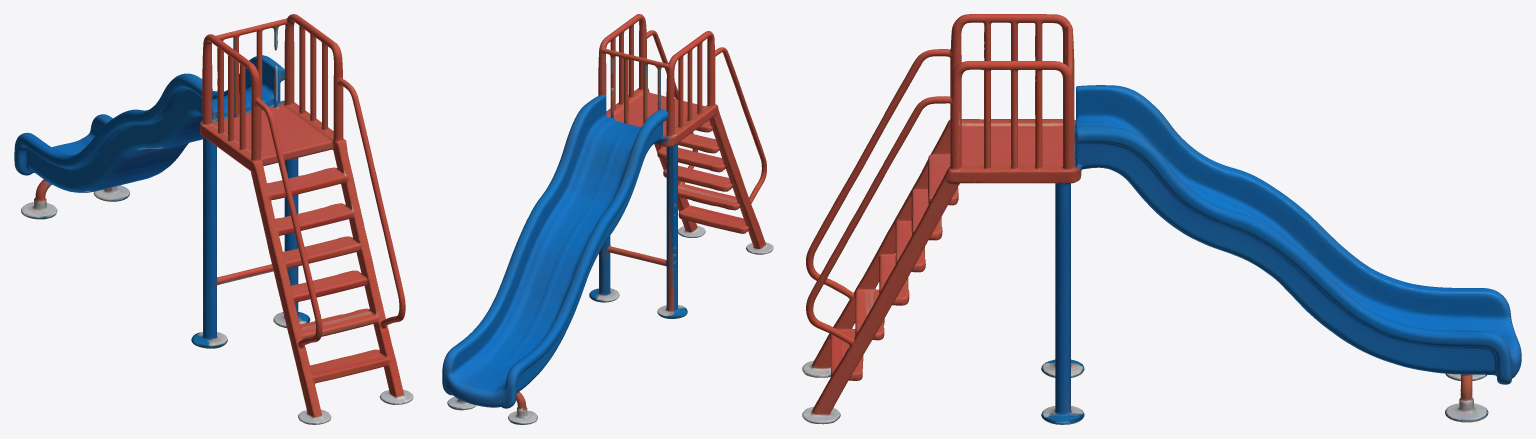
The model's file is Slide.glb.
3 views of the same model, side by side, from view 1: azimuth 30°, elevation 25°; view 2: azimuth 150°, elevation 25°; view 3: azimuth 270°, elevation 25° (orthographic). The views are drawn at different scales.
Parts seen in each view (by area): view 1: tripo_node_79141808-a195-48ef-8c8a-d03935c5f154; view 2: tripo_node_79141808-a195-48ef-8c8a-d03935c5f154; view 3: tripo_node_79141808-a195-48ef-8c8a-d03935c5f154.
Boxes of the visible parts, x1=… form: tripo_node_79141808-a195-48ef-8c8a-d03935c5f154: x1=14, y1=14, x2=413, y2=424; tripo_node_79141808-a195-48ef-8c8a-d03935c5f154: x1=442, y1=14, x2=773, y2=424; tripo_node_79141808-a195-48ef-8c8a-d03935c5f154: x1=802, y1=14, x2=1521, y2=424.
Bounding box in the file's own units: 0.2109 × 0.546 × 1.
1 material, 1 textured.
